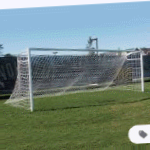goals: (3, 45, 148, 113)
